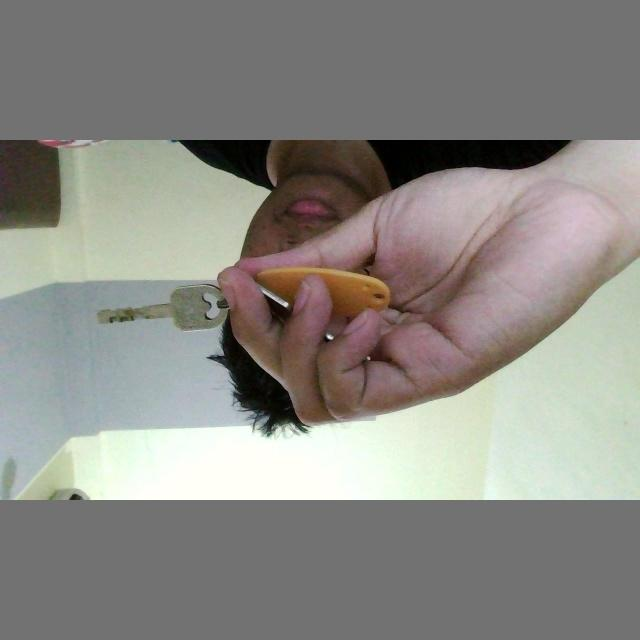Keys: (92, 278, 232, 340)
